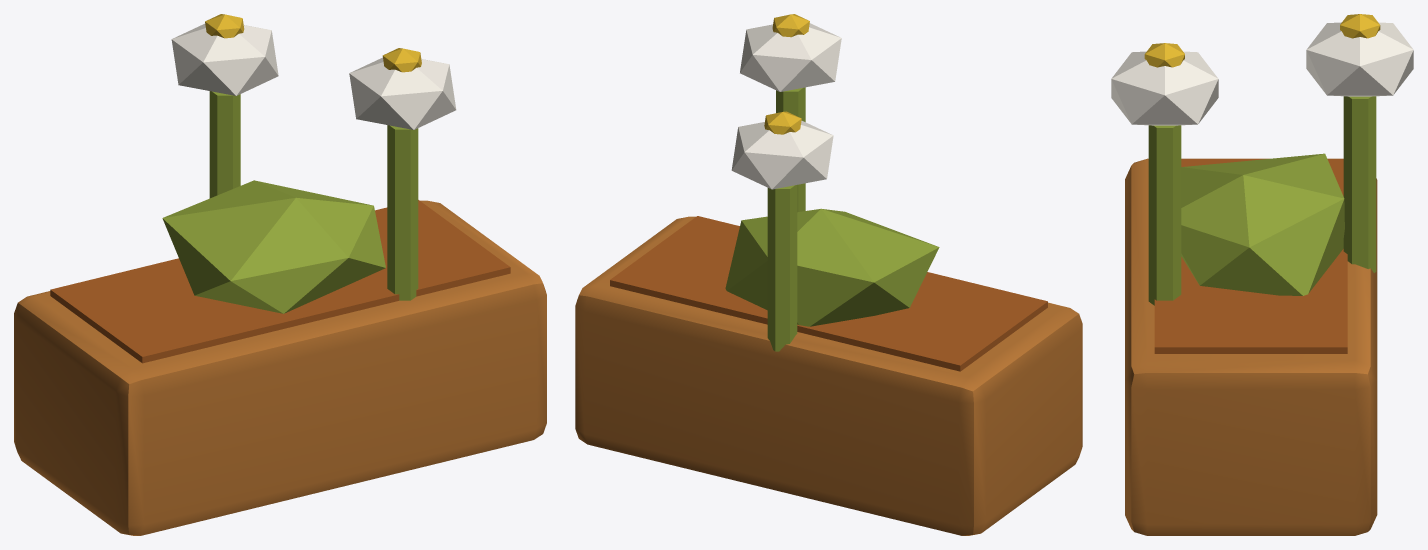
The model's file is prop_planter.glb.
3 renders of one model, left to right at view 1: azimuth 30°, elevation 25°; view 2: azimuth 150°, elevation 25°; view 3: azimuth 270°, elevation 25°, orthographic. The views are drawn at different scales.
Parts seen in each view (by area): view 1: pl_box, plf_leafmound, pl_soil, plf_head1, plf_head0, plf_stem0, plf_stem1, plf_eye1, plf_eye0; view 2: pl_box, pl_soil, plf_leafmound, plf_head0, plf_head1, plf_stem1, plf_stem0, plf_eye1, plf_eye0; view 3: pl_box, plf_leafmound, pl_soil, plf_head1, plf_head0, plf_stem0, plf_stem1, plf_eye1, plf_eye0.
Part boxes in pixels (bbox=[...]): pl_box: bbox=[14, 200, 546, 535]; plf_leafmound: bbox=[162, 180, 385, 313]; pl_soil: bbox=[50, 200, 510, 363]; plf_head1: bbox=[171, 23, 278, 95]; plf_head0: bbox=[349, 57, 456, 129]; plf_stem0: bbox=[387, 125, 418, 300]; plf_stem1: bbox=[209, 91, 240, 198]; plf_eye1: bbox=[205, 14, 244, 38]; plf_eye0: bbox=[382, 48, 421, 72]; pl_box: bbox=[575, 216, 1082, 535]; pl_soil: bbox=[610, 216, 1047, 371]; plf_leafmound: bbox=[725, 208, 939, 326]; plf_head0: bbox=[740, 23, 841, 91]; plf_head1: bbox=[731, 121, 833, 189]; plf_stem1: bbox=[767, 185, 797, 351]; plf_stem0: bbox=[776, 87, 805, 212]; plf_eye1: bbox=[764, 111, 801, 134]; plf_eye0: bbox=[772, 14, 809, 37]; pl_box: bbox=[1125, 158, 1377, 535]; plf_leafmound: bbox=[1181, 153, 1344, 295]; pl_soil: bbox=[1154, 159, 1347, 353]; plf_head1: bbox=[1306, 22, 1413, 96]; plf_head0: bbox=[1111, 51, 1218, 125]; plf_stem0: bbox=[1148, 125, 1181, 305]; plf_stem1: bbox=[1343, 96, 1376, 272]; plf_eye1: bbox=[1340, 14, 1380, 38]; plf_eye0: bbox=[1144, 43, 1184, 67].
Bounding box in the file's own units: 0.7 × 0.6441 × 0.4075.
